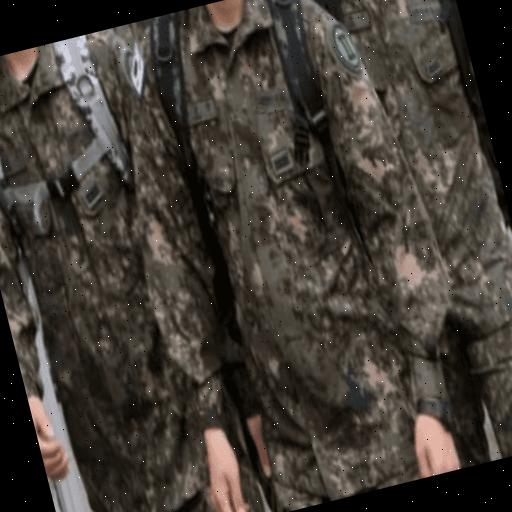korea army: (96, 0, 451, 512), (0, 48, 215, 512), (324, 0, 512, 359)
